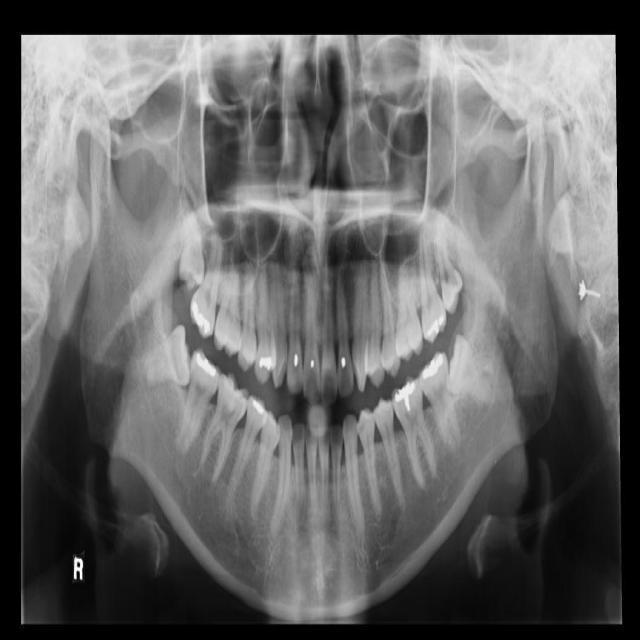Filling: (190, 297, 214, 334), (418, 351, 446, 380), (394, 380, 417, 412), (193, 353, 218, 377), (425, 315, 444, 339), (249, 396, 270, 416), (255, 354, 274, 369), (291, 352, 301, 369), (307, 358, 318, 372), (338, 356, 347, 372)
impacted tooth: (446, 337, 500, 406), (129, 325, 189, 386), (178, 206, 207, 289)
